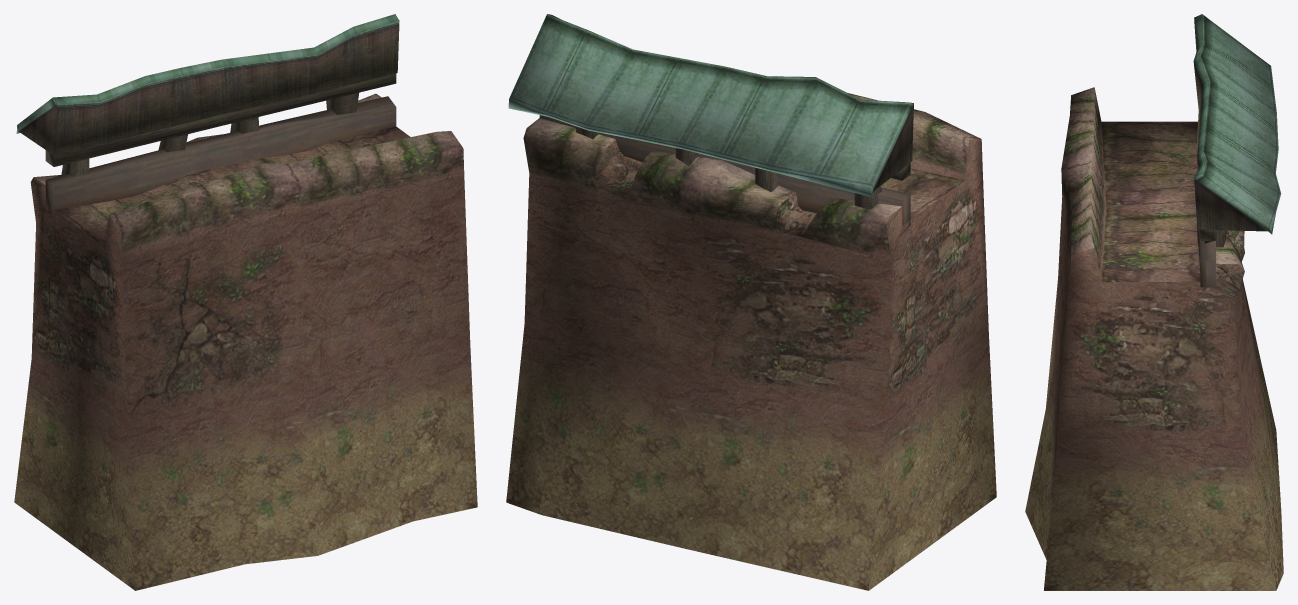
Rendered from smallwall.FBX.
3 renders of one model, left to right at view 1: azimuth 30°, elevation 25°; view 2: azimuth 150°, elevation 25°; view 3: azimuth 270°, elevation 25°, orthographic. The views are drawn at different scales.
Parts seen in each view (by area): view 1: SMWA10H; view 2: SMWA10H; view 3: SMWA10H.
Boxes of the visible parts, x1,y1,x2,y2 form: SMWA10H: [14, 14, 477, 590]; SMWA10H: [506, 14, 996, 590]; SMWA10H: [1025, 14, 1283, 590].
Bounding box in the file's own units: 10 × 12.11 × 6.8.
4 materials, 4 textured.
